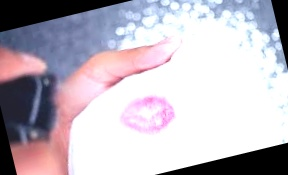lipstick: (111, 86, 178, 146)
